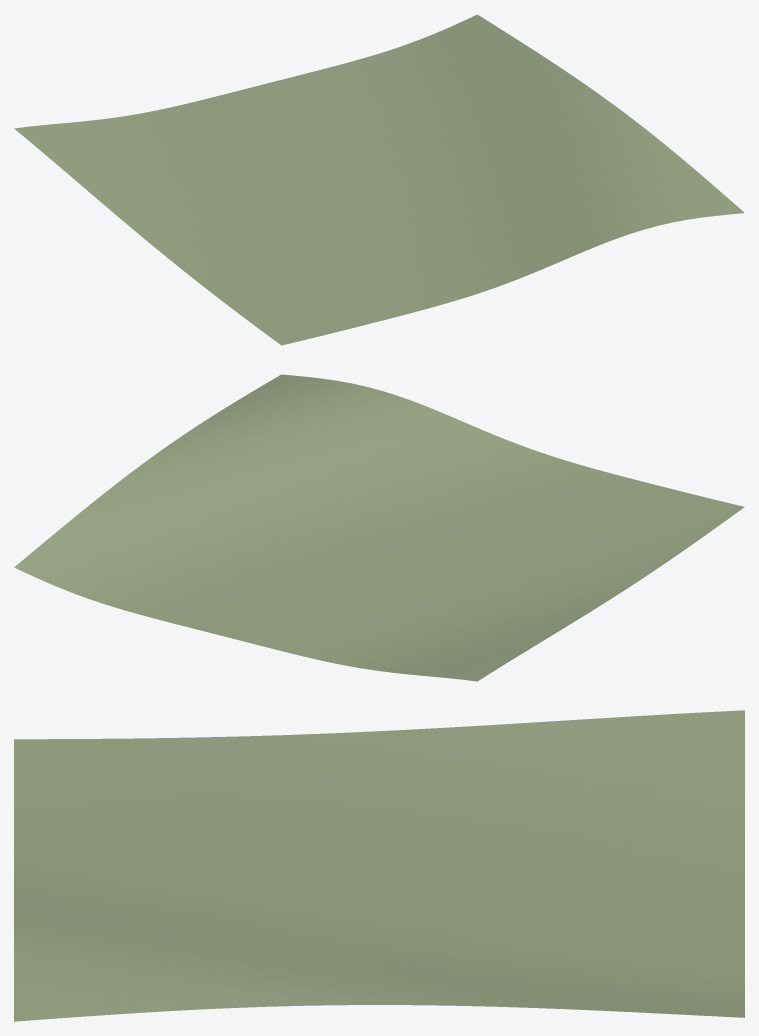
File: desert-2-7.glb
3 views of the same model, one above another, from view 1: azimuth 30°, elevation 25°; view 2: azimuth 150°, elevation 25°; view 3: azimuth 270°, elevation 25° (orthographic). The views are drawn at different scales.
Visible parts, largest first — view 1: desert-2-7; view 2: desert-2-7; view 3: desert-2-7.
Boxes of the visible parts, x1,y1,x2,y2 form: desert-2-7: (14,14,744,345); desert-2-7: (14,374,744,681); desert-2-7: (14,710,744,1021).
Size of the model in its own units: 512 by 33.52 by 512.
